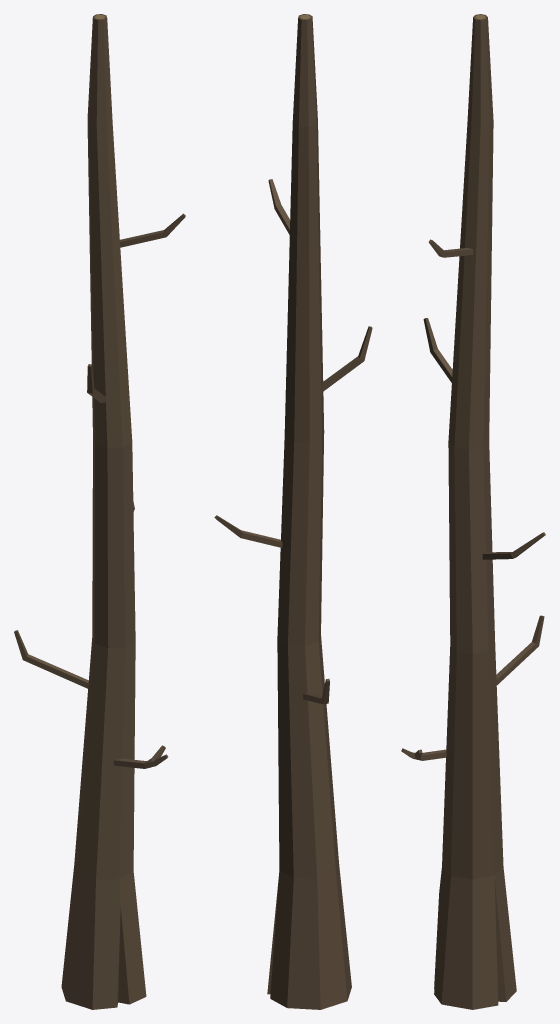
Rendered from SM_Envr_Nature_Tree_Pine_Dead_03.fbx.
3 renders of one model, left to right at view 1: azimuth 30°, elevation 25°; view 2: azimuth 150°, elevation 25°; view 3: azimuth 270°, elevation 25°, orthographic.
Visible parts, largest first — view 1: SM_Envr_Nature_Tree_Pine_Dead_03; view 2: SM_Envr_Nature_Tree_Pine_Dead_03; view 3: SM_Envr_Nature_Tree_Pine_Dead_03.
Part boxes in pixels (box(x1,y1,x2,y2)): SM_Envr_Nature_Tree_Pine_Dead_03: box(14, 14, 185, 1009); SM_Envr_Nature_Tree_Pine_Dead_03: box(214, 14, 372, 1009); SM_Envr_Nature_Tree_Pine_Dead_03: box(401, 14, 545, 1009).
Size of the model in its own units: 145 by 1157 by 156.
